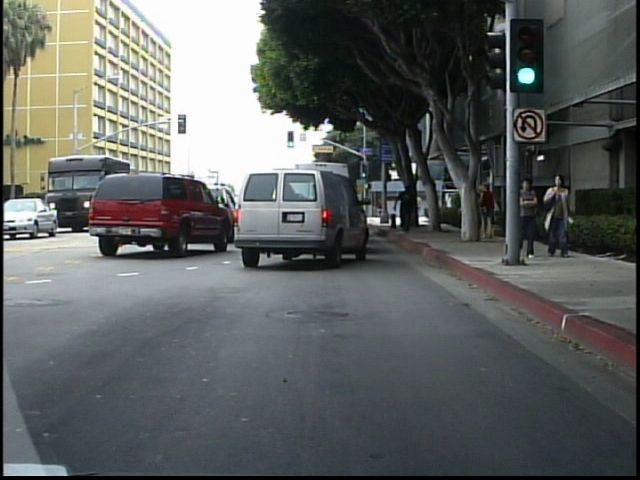person: (538, 171, 581, 262), (519, 173, 543, 264), (479, 173, 501, 243), (394, 181, 422, 236), (464, 174, 485, 247), (413, 185, 427, 223)
